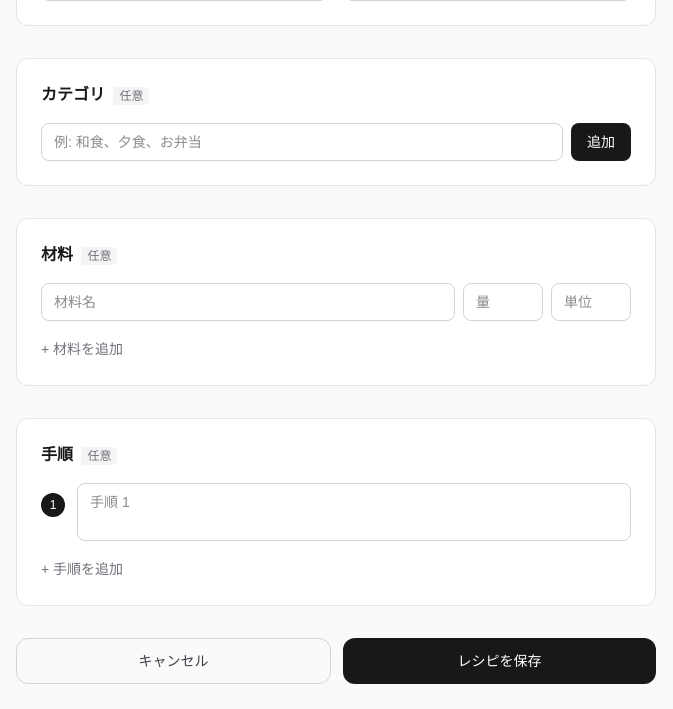
Test: NewRecipePage › 「+ 手順を追加」を押すと手順の入力欄が増える
(page scrolled)
Click the button "+ 手順を追加" at (82, 569), box x1=41 y1=559 x2=123 y2=579
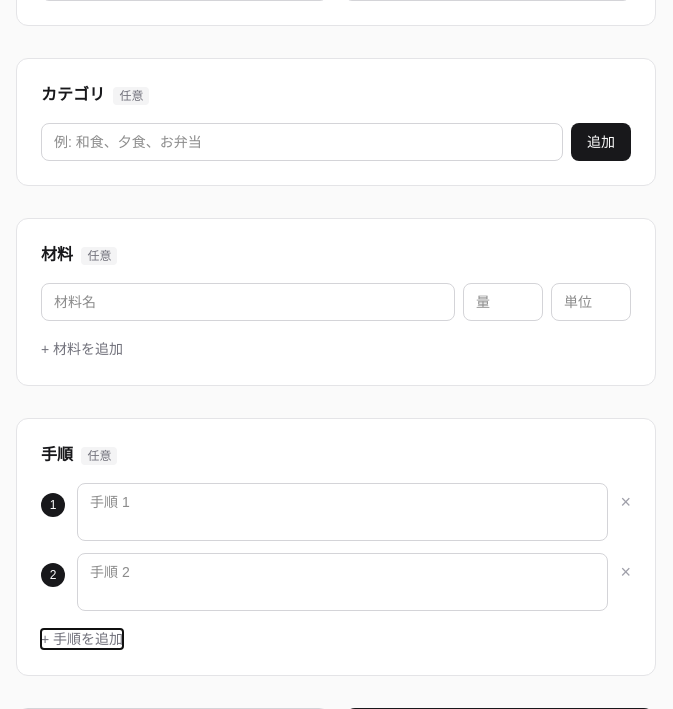
Result: the number of text boxes with placeholder "手順 1" is 2 at x1=77 y1=483 x2=608 y2=541; x1=77 y1=553 x2=608 y2=611
